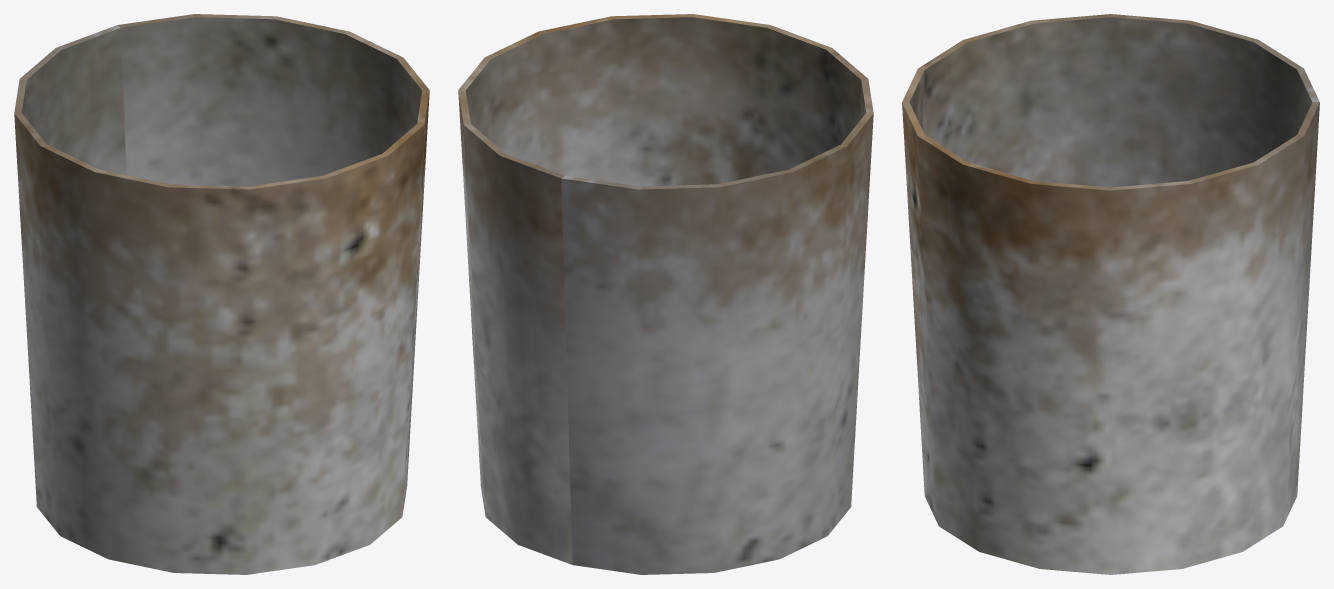
File: Prop_Bucket_model.fbx
3 renders of one model, left to right at view 1: azimuth 30°, elevation 25°; view 2: azimuth 150°, elevation 25°; view 3: azimuth 270°, elevation 25°, orthographic.
Visible parts, largest first — view 1: Prop_Bucket; view 2: Prop_Bucket; view 3: Prop_Bucket.
Part boxes in pixels (x1,y1,x2,y2): Prop_Bucket: (14, 14, 429, 574); Prop_Bucket: (458, 14, 873, 574); Prop_Bucket: (902, 14, 1319, 574).
Bounding box in the file's own units: 33.65 × 35 × 33.65.
Materials: 1 (1 with a texture image).
